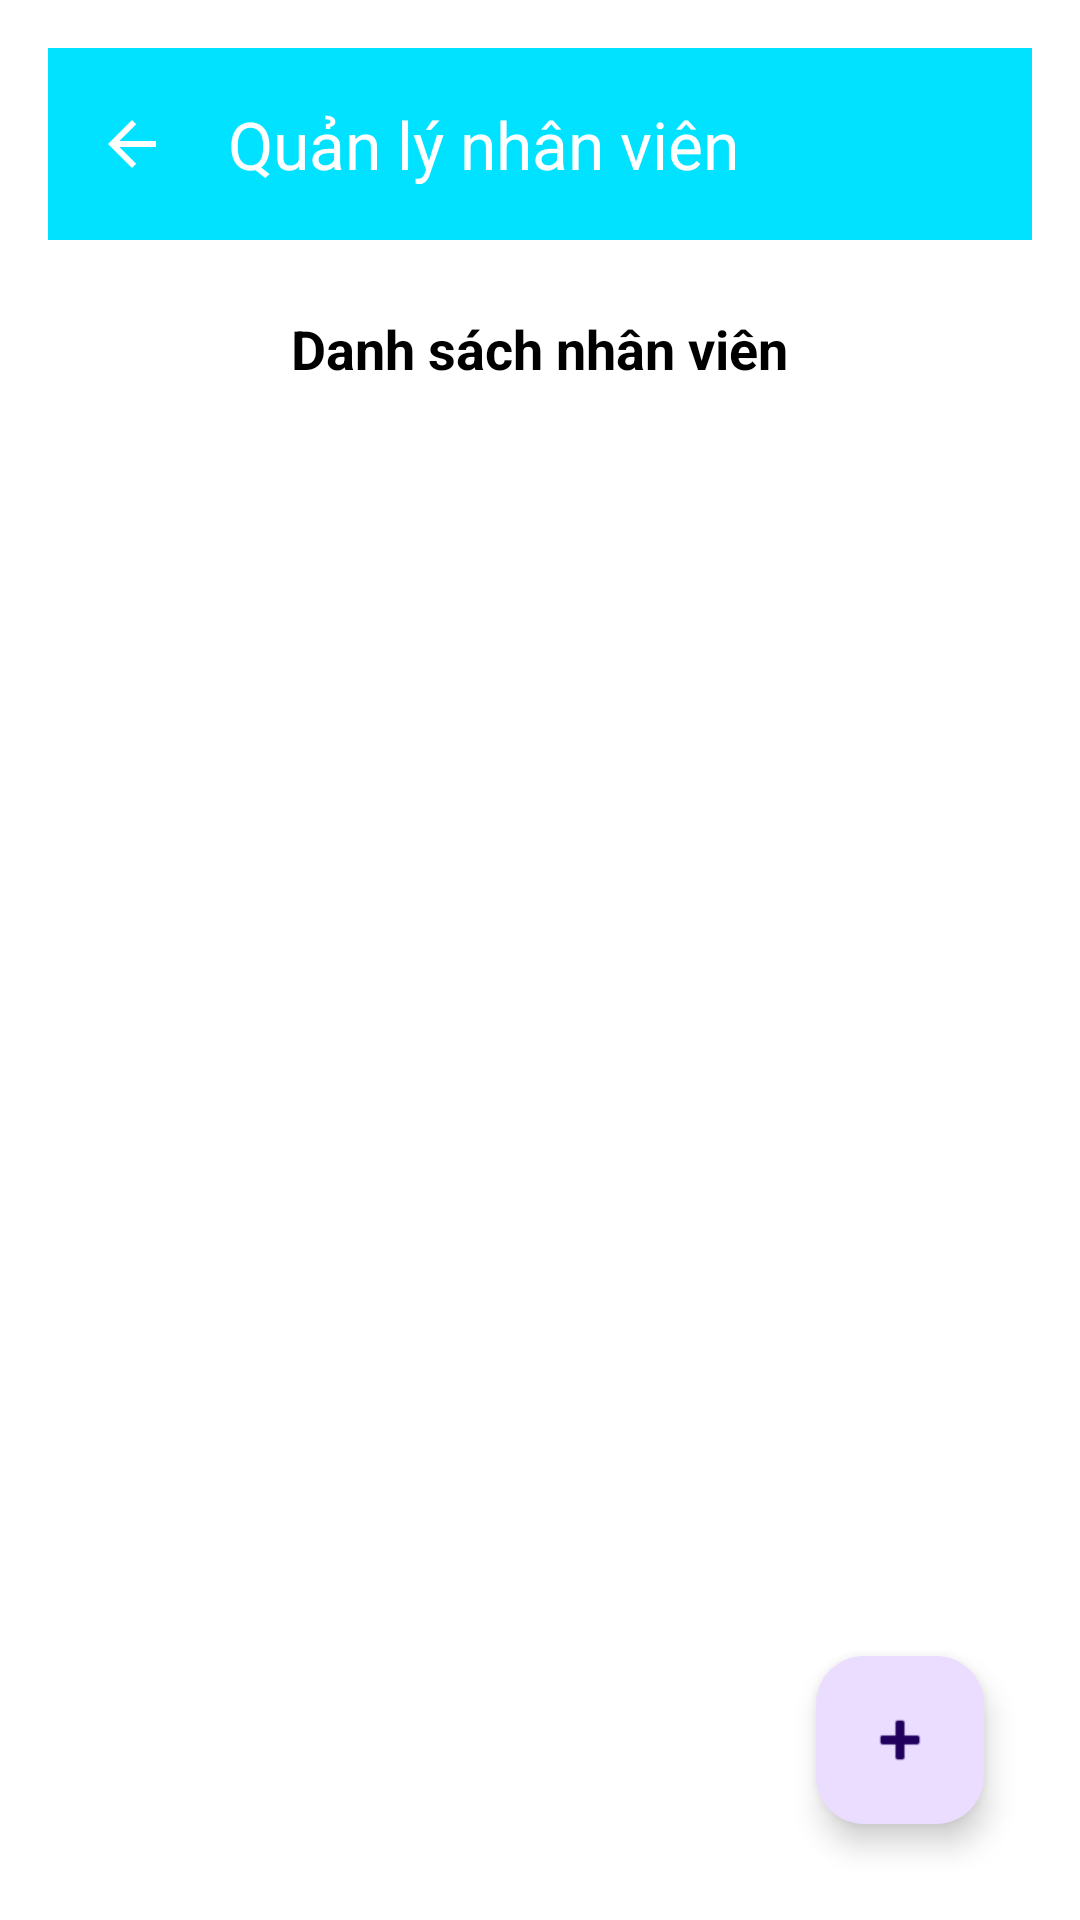

Icon click points for this 1080w x 1920h phone screenshot, format point (x, y):
Thêm nhân viên: point (900, 1740)
